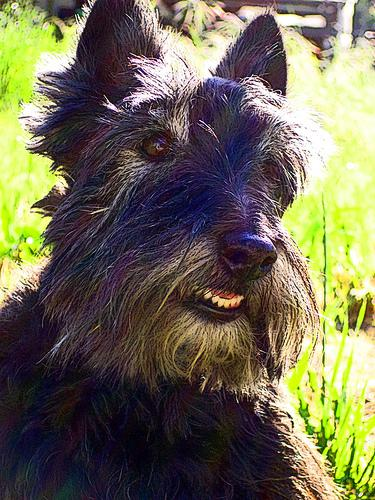dog-scottish_terrier: (70, 0, 299, 342)
